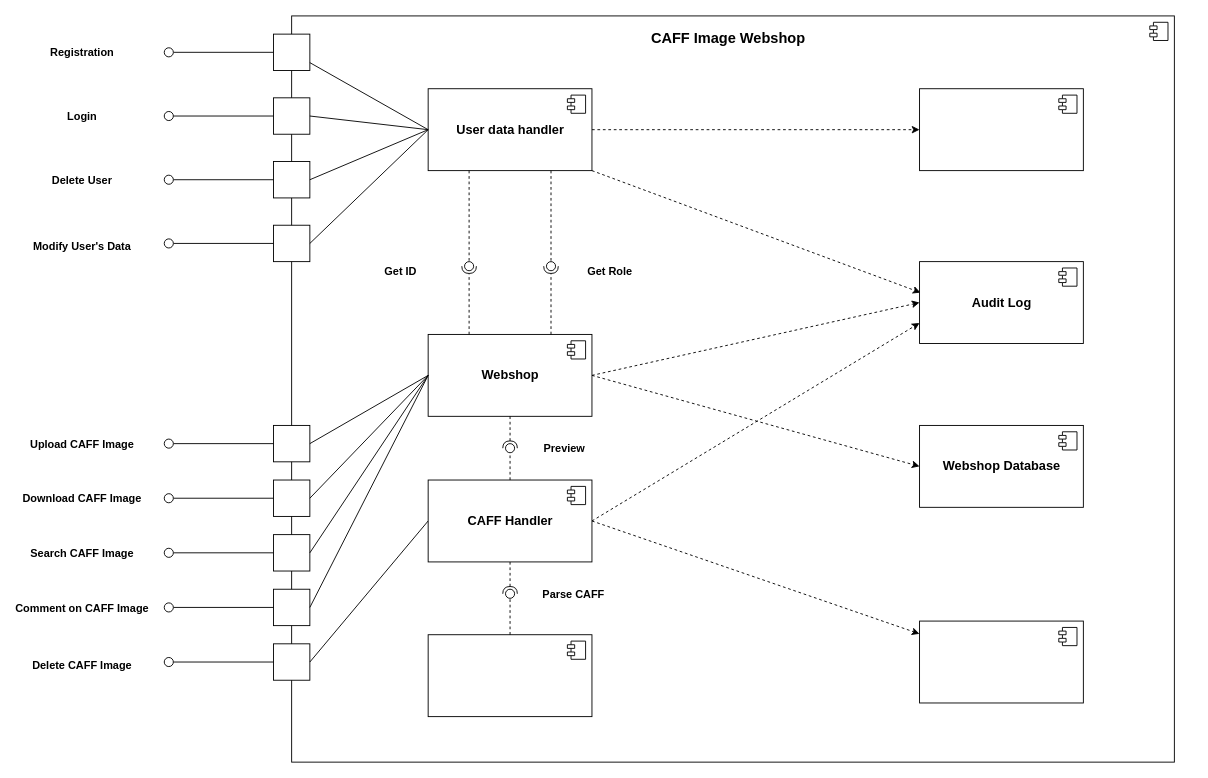
Image size: 1208x778. Some labels were removed from this diagram. The box of each missing label's shape, as (x1, y1, x2, y2) in pixels:
CAFF Parser: (427, 634, 592, 717)
File Storage: (919, 620, 1083, 703)
User Data Database: (919, 88, 1083, 171)
